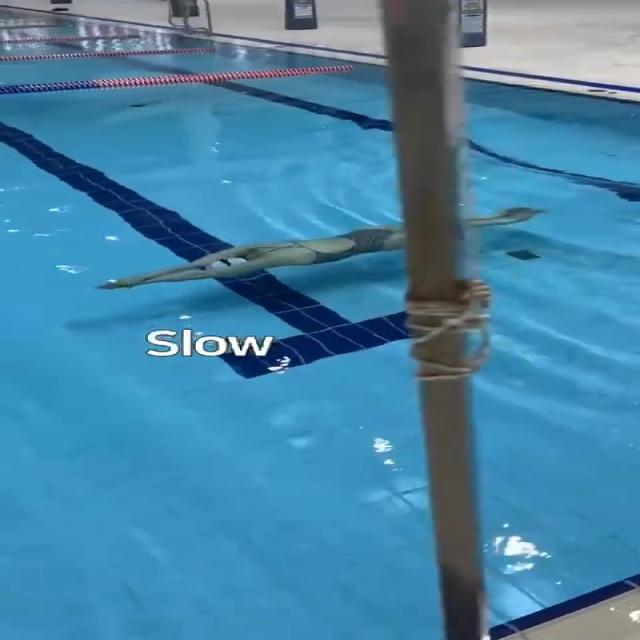Swimming: (95, 202, 549, 292)
